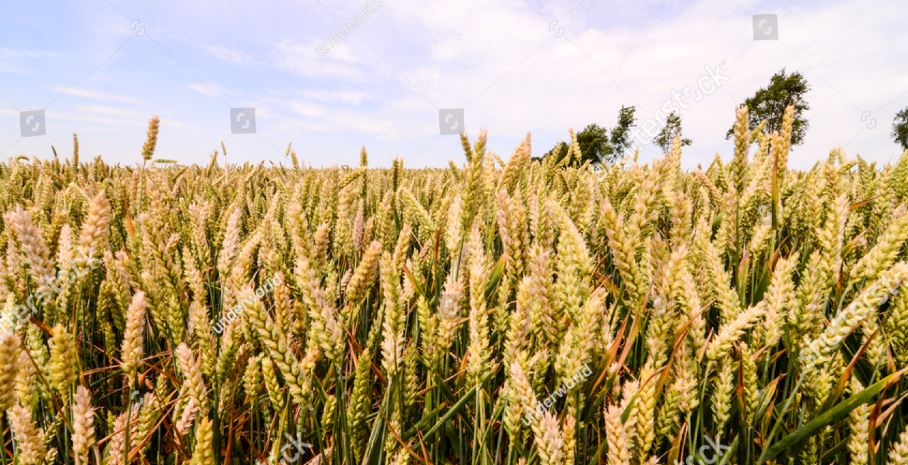Wheat: (236, 160, 871, 375)
